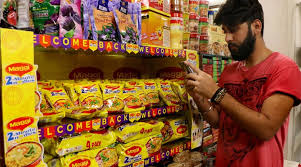maggie: (114, 138, 170, 164), (75, 84, 102, 116), (45, 91, 72, 109)
